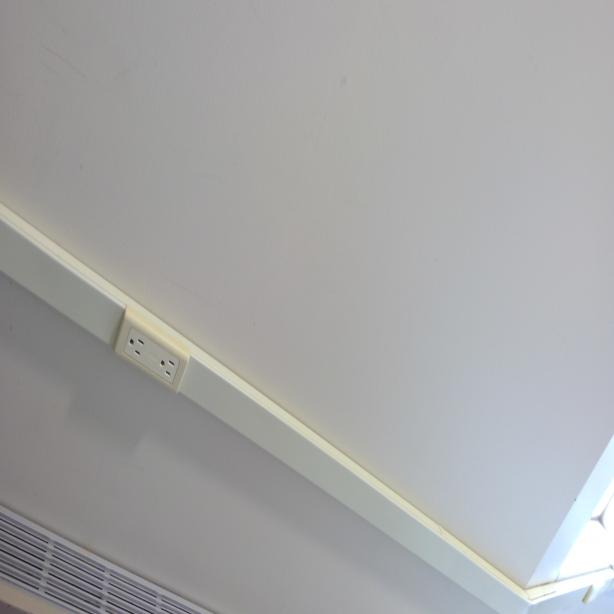typeb: (128, 332, 145, 359), (159, 352, 176, 379)
